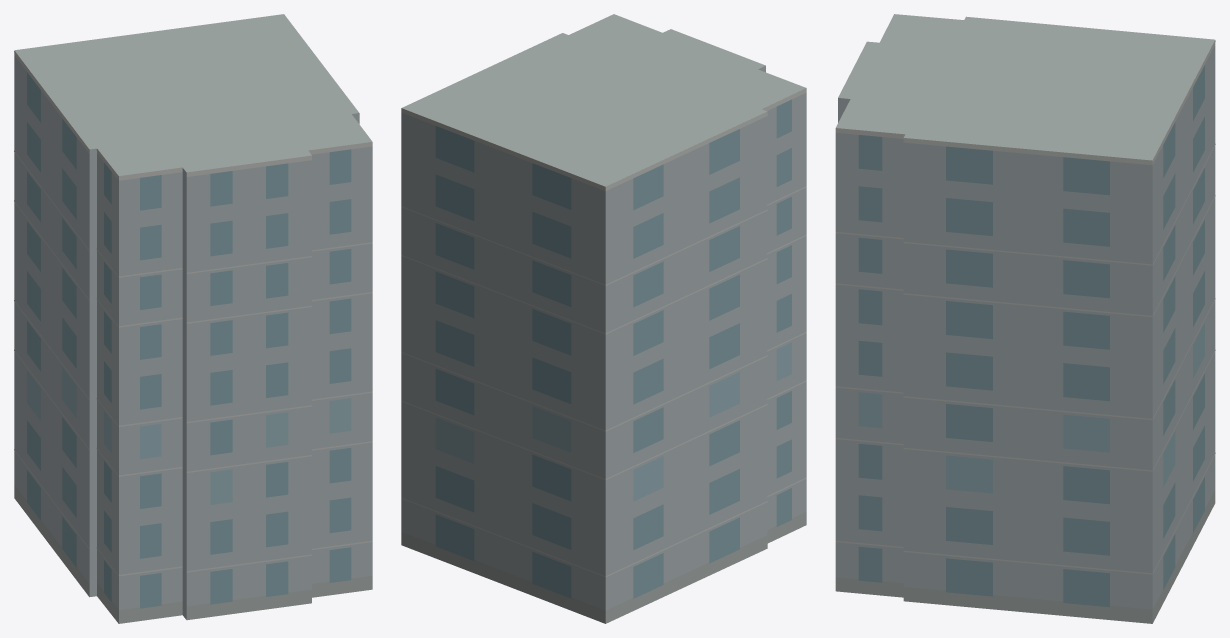
The model's file is survey-upis-32980139.glb.
3 renders of one model, left to right at view 1: azimuth 30°, elevation 25°; view 2: azimuth 150°, elevation 25°; view 3: azimuth 270°, elevation 25°, orthographic. The views are drawn at different scales.
Parts seen in each view (by area): view 1: survey-upis-32980139.tmp; view 2: survey-upis-32980139.tmp; view 3: survey-upis-32980139.tmp.
Boxes of the visible parts, left/top/right/bottom form: survey-upis-32980139.tmp: left=14, top=14, right=372, bottom=623; survey-upis-32980139.tmp: left=401, top=14, right=806, bottom=623; survey-upis-32980139.tmp: left=835, top=14, right=1215, bottom=623.
Bounding box in the file's own units: 16.16 × 23.8 × 17.7.
